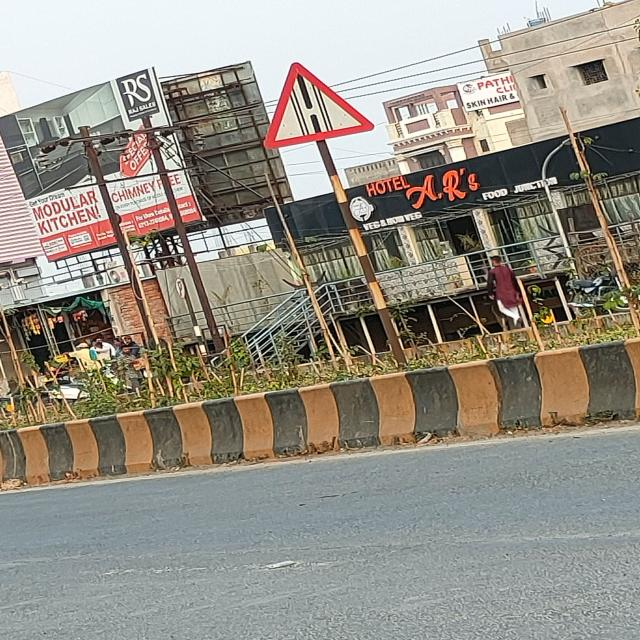ferry: (262, 61, 374, 150)
